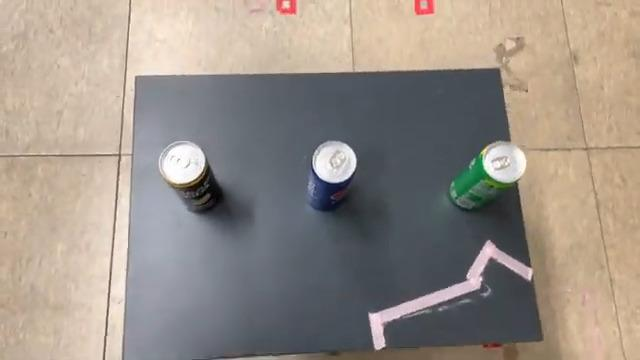OranSoda: (155, 136, 227, 218)
Pepsi: (302, 136, 362, 216)
Sprite: (444, 136, 530, 216)
